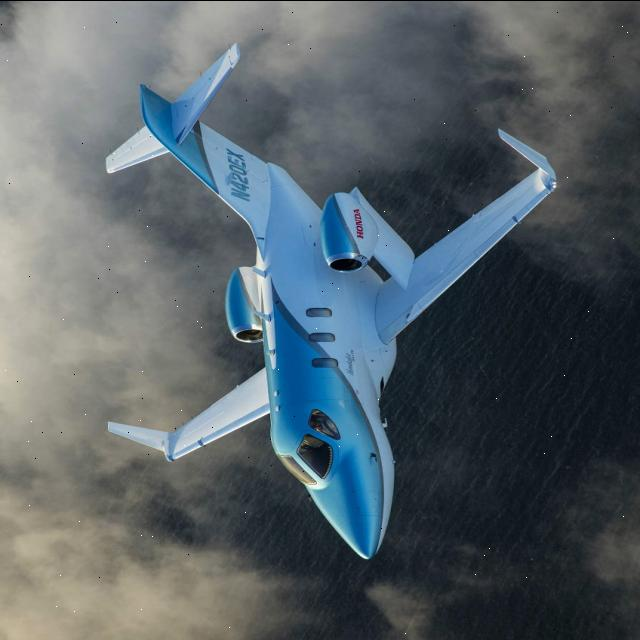jet: (76, 16, 633, 580)
